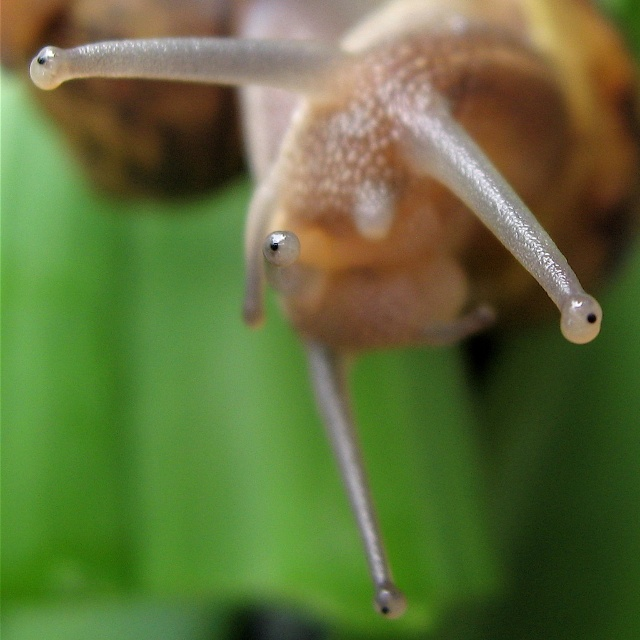Snail: (31, 0, 640, 622)
